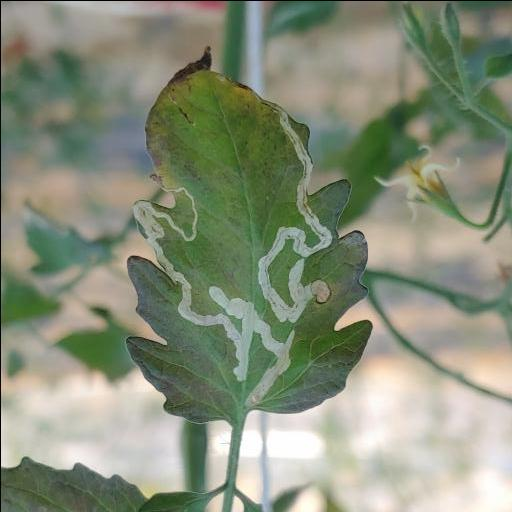disease_tomato: (123, 41, 375, 427)
